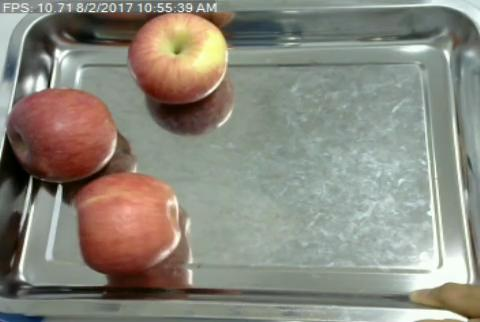apple: (75, 171, 183, 274), (8, 89, 115, 181), (127, 13, 228, 104)
